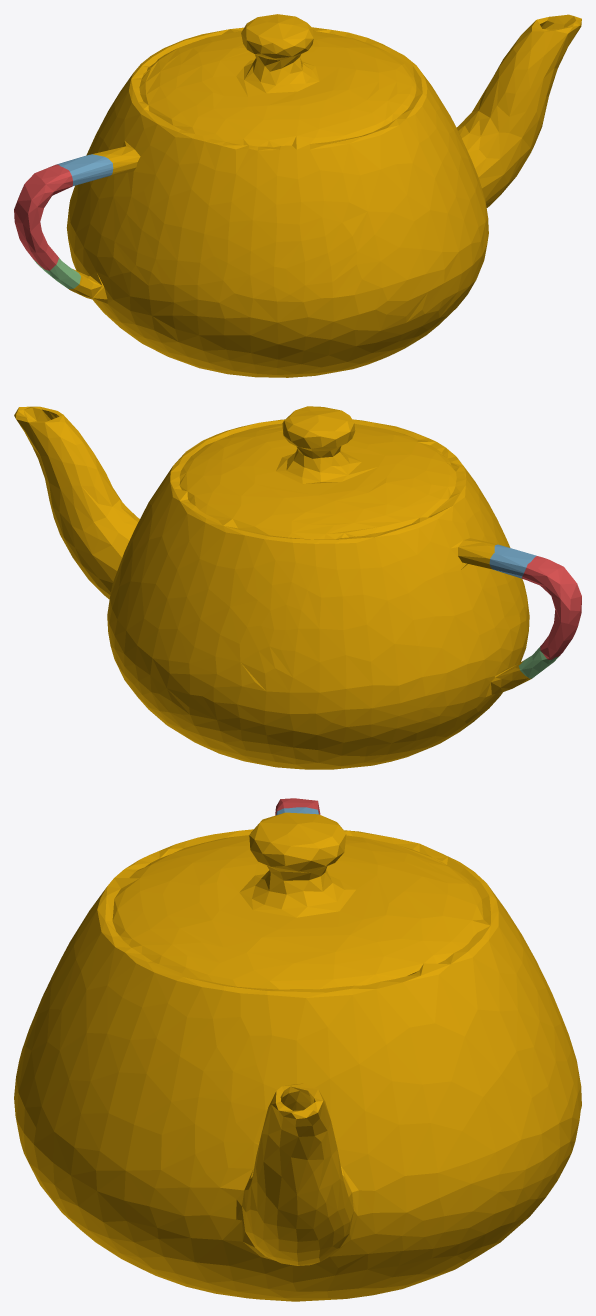
The model's file is fractured_2_4pcs.glb.
The picture shows the model from 3 angles, top to bottom: view 1: azimuth 30°, elevation 25°; view 2: azimuth 150°, elevation 25°; view 3: azimuth 270°, elevation 25°; orthographic projection. The views are drawn at different scales.
Parts seen in each view (by area): view 1: piece_0.obj, piece_1.obj, piece_2.obj, piece_3.obj; view 2: piece_0.obj, piece_1.obj, piece_2.obj, piece_3.obj; view 3: piece_0.obj.
Part boxes in pixels (<box>): piece_0.obj: <box>66,14,581,377</box>; piece_1.obj: <box>14,164,72,270</box>; piece_2.obj: <box>56,154,113,186</box>; piece_3.obj: <box>33,258,80,288</box>; piece_0.obj: <box>14,406,531,769</box>; piece_1.obj: <box>522,556,581,659</box>; piece_2.obj: <box>489,544,536,578</box>; piece_3.obj: <box>518,646,559,678</box>; piece_0.obj: <box>14,812,581,1301</box>.
Bounding box in the file's own units: 1 × 0.502 × 0.6513.
